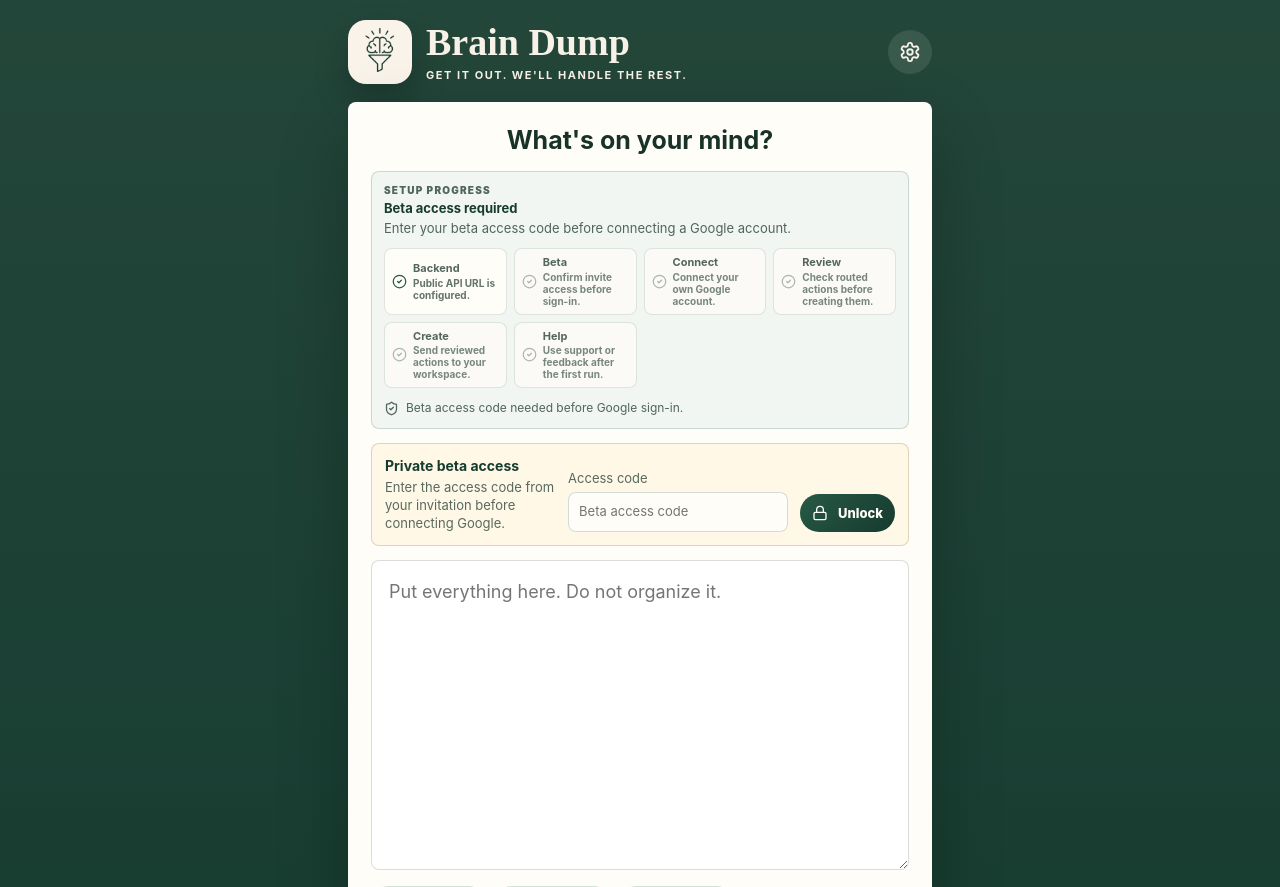
Scenario: App routes › prompts for beta access before public Google connection
The width and height of the screenshot is (1280, 887).
Check: the text "Beta access required" is shown, box x1=384 y1=200 x2=518 y2=216
Check: the text "Beta access code needed before Google sign-in." is shown, box x1=406 y1=400 x2=683 y2=416
Type "founder-beta" into the field with placeholder "Beta access code".
click(678, 512); type("founder-beta")  # box x1=568 y1=492 x2=788 y2=532
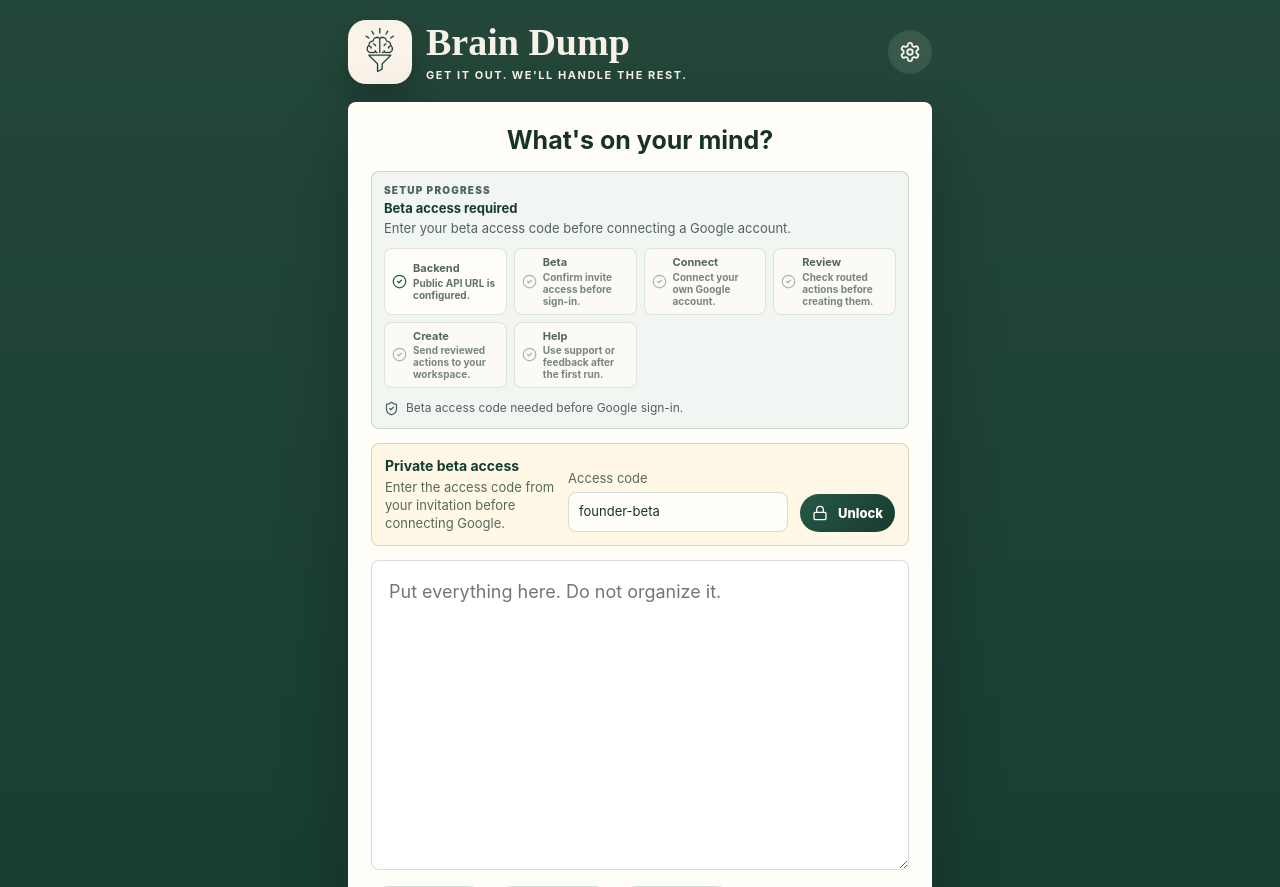
Click the button "Unlock".
click(848, 513)  # box x1=800 y1=494 x2=895 y2=532
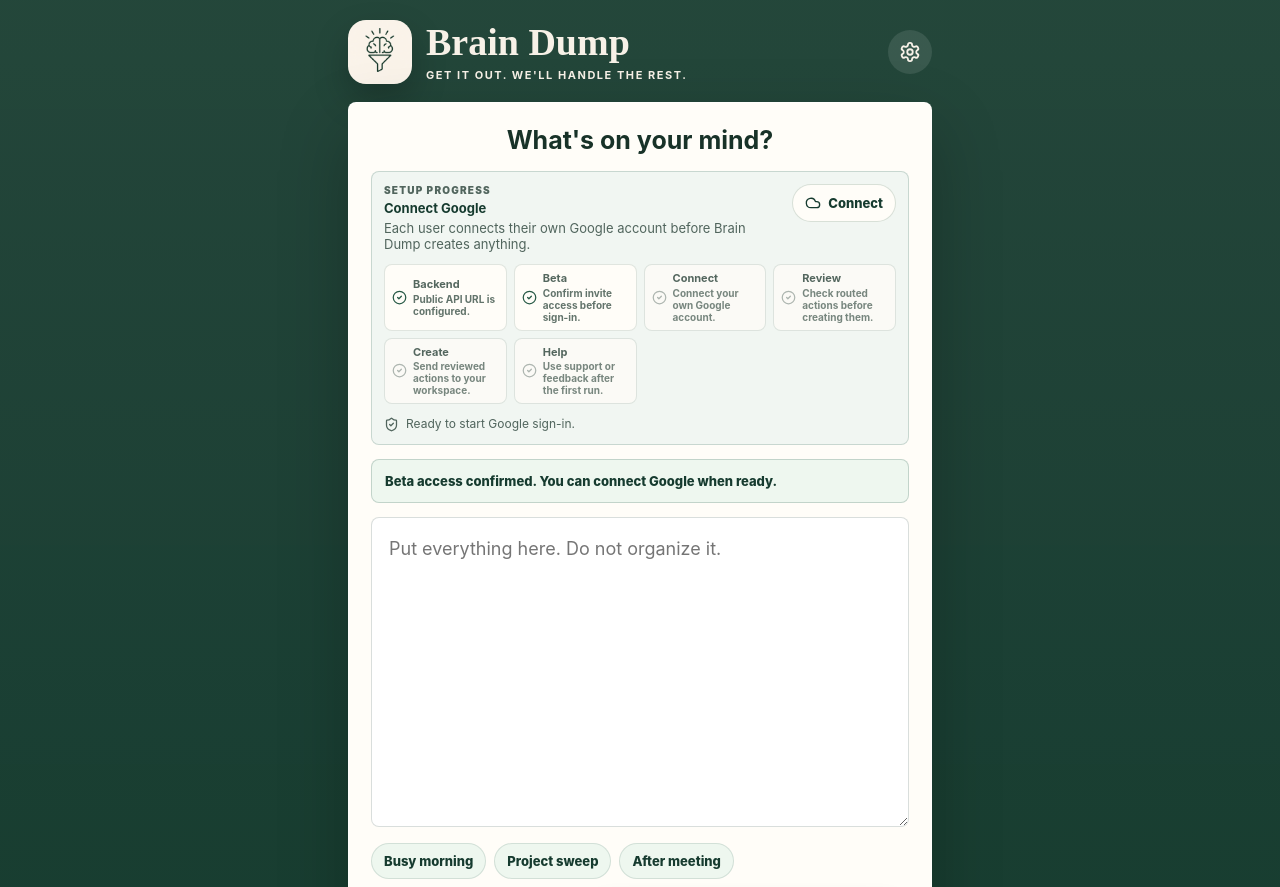
Check: the text "Beta access confirmed. You can connect Google when ready." is shown, box x1=371 y1=460 x2=909 y2=504
Check: the text with placeholder "beta access code" is gone
